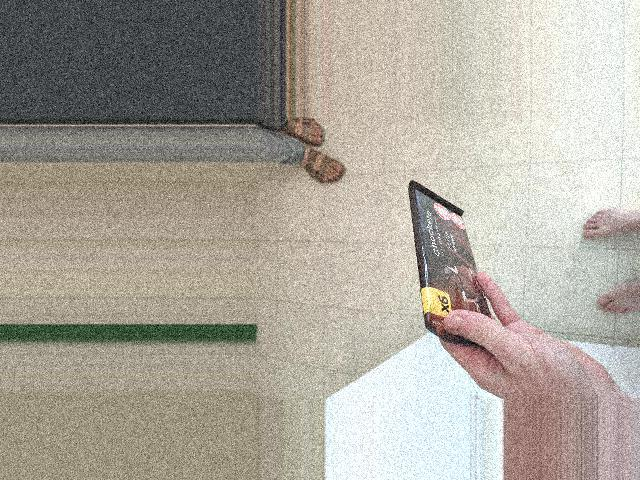chocolate: (397, 173, 504, 359)
